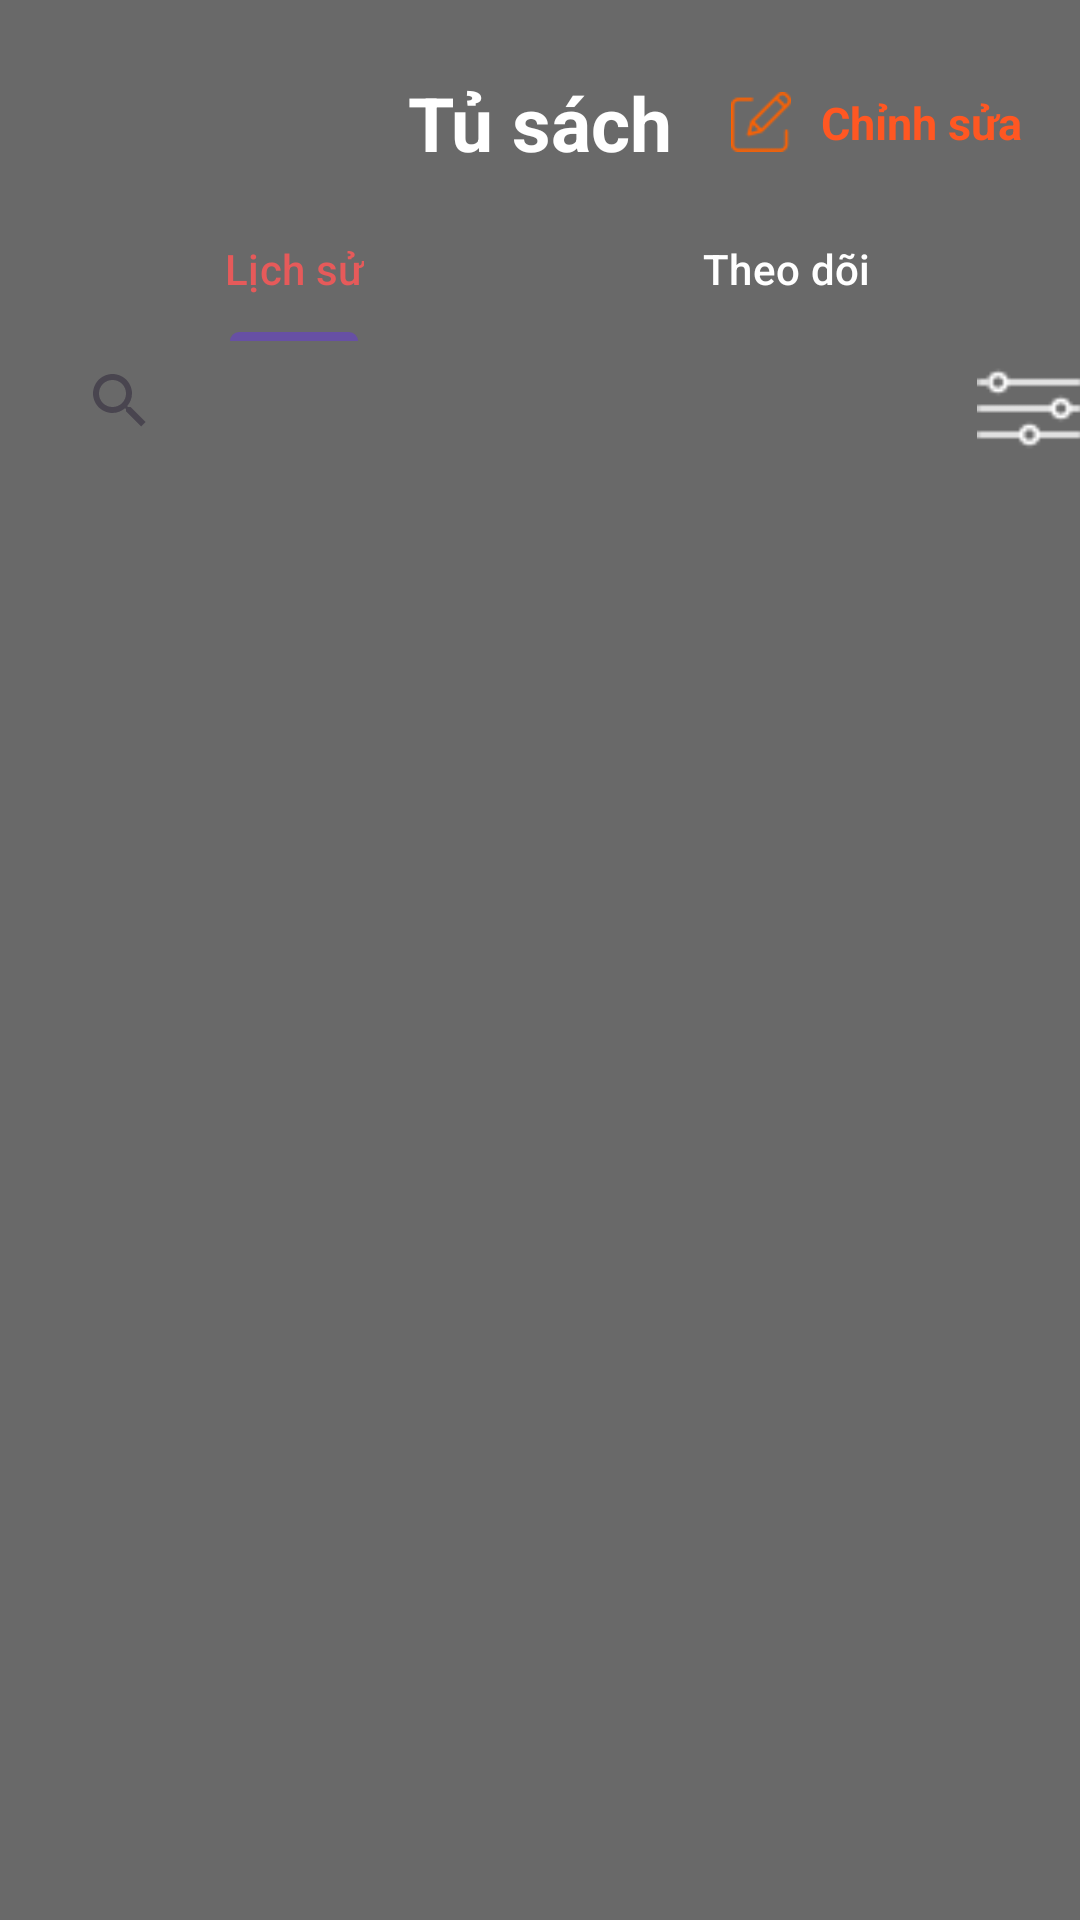

Icon click points for this 1080px×1920px phone screenshot, format (x=x, y=y):
filterwhite: (x=1028, y=408)
penedit: (x=761, y=122)
